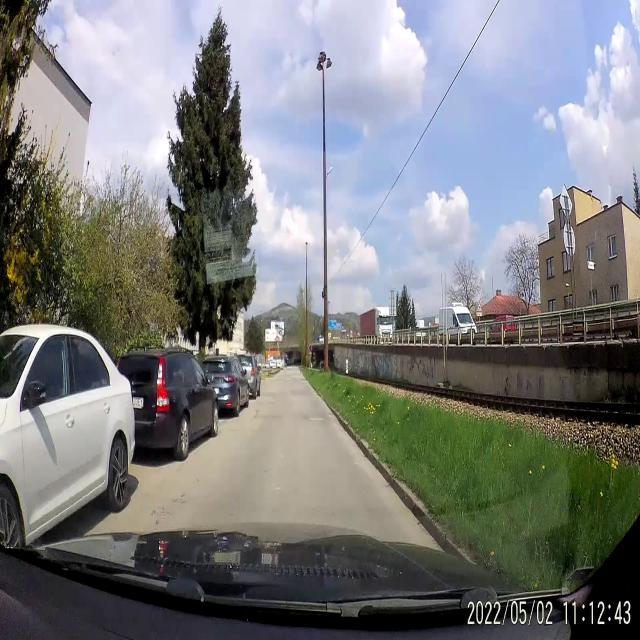Manhole: (306, 412, 326, 425)
